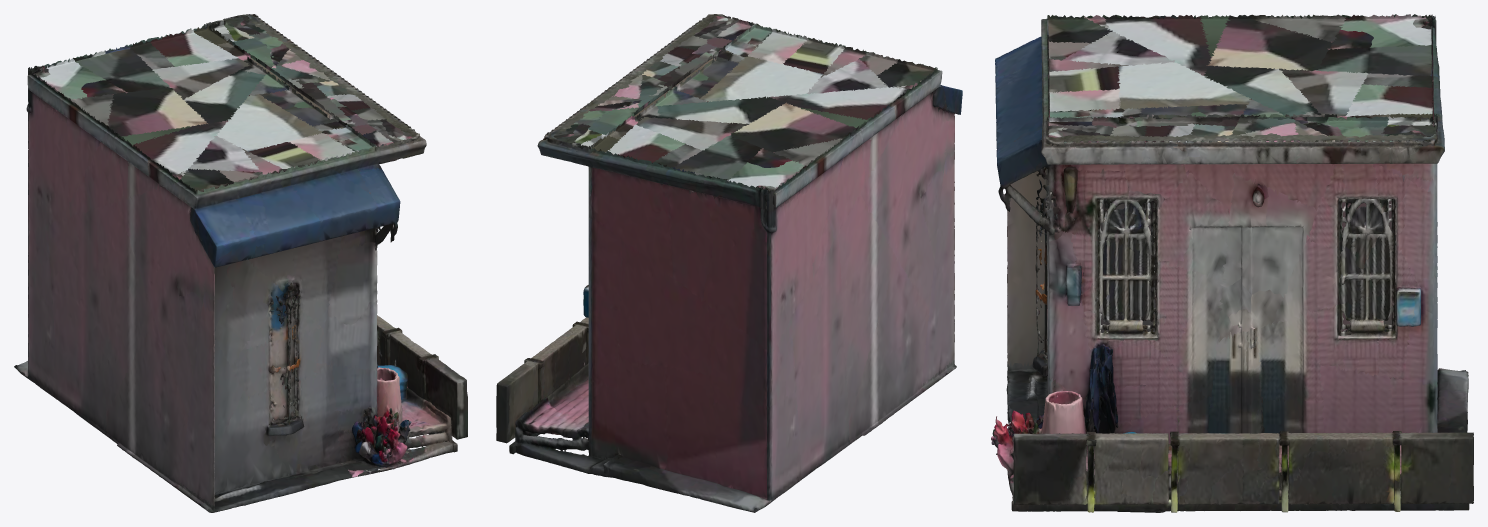
3 views of the same model, side by side, from view 1: azimuth 30°, elevation 25°; view 2: azimuth 150°, elevation 25°; view 3: azimuth 270°, elevation 25° (orthographic). The views are drawn at different scales.
Visible parts, largest first — view 1: Meshy_AI_Industrial_Chic_House_0106045541_texture; view 2: Meshy_AI_Industrial_Chic_House_0106045541_texture; view 3: Meshy_AI_Industrial_Chic_House_0106045541_texture.
Part boxes in pixels (bbox=[...]): Meshy_AI_Industrial_Chic_House_0106045541_texture: bbox=[14, 14, 467, 512]; Meshy_AI_Industrial_Chic_House_0106045541_texture: bbox=[496, 14, 962, 512]; Meshy_AI_Industrial_Chic_House_0106045541_texture: bbox=[991, 14, 1473, 512].
Size of the model in its own units: 0.8983 by 1.02 by 1.23.
Materials: 1 (1 with a texture image).
